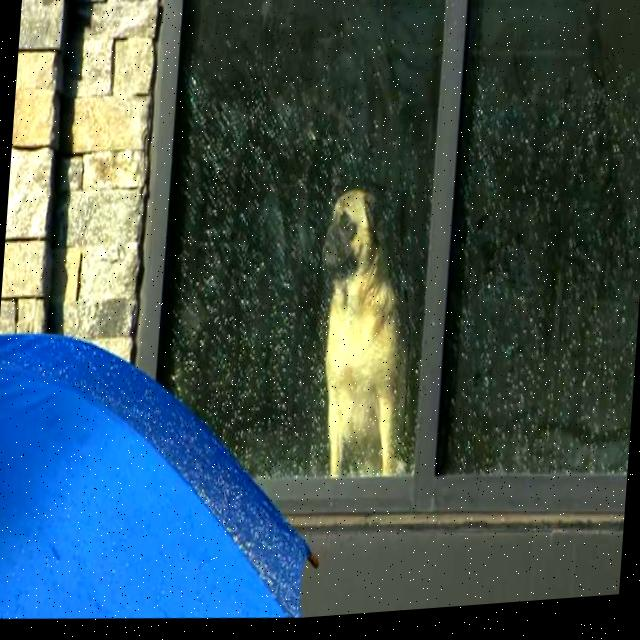dog: (292, 171, 436, 484)
